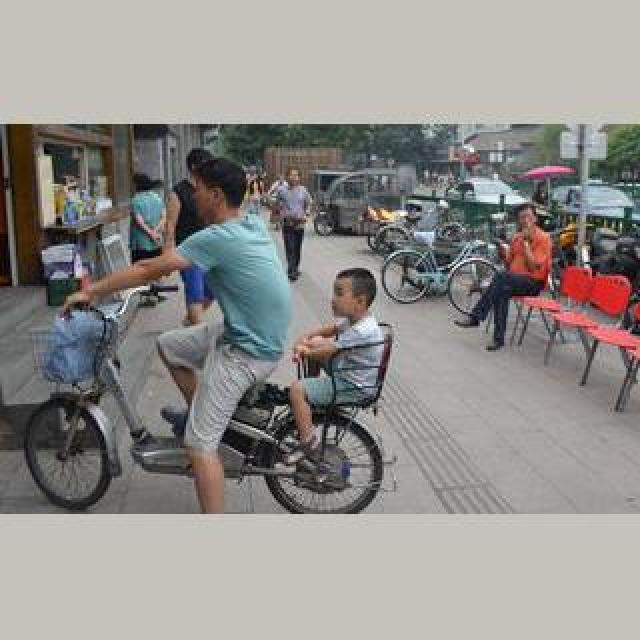Bus-Bike: (312, 168, 416, 234), (548, 182, 640, 220)
MC-Bike: (64, 154, 294, 514), (282, 268, 392, 474), (458, 202, 552, 350), (270, 166, 314, 282), (128, 170, 164, 260)
Person: (10, 294, 396, 514), (380, 230, 496, 304)
